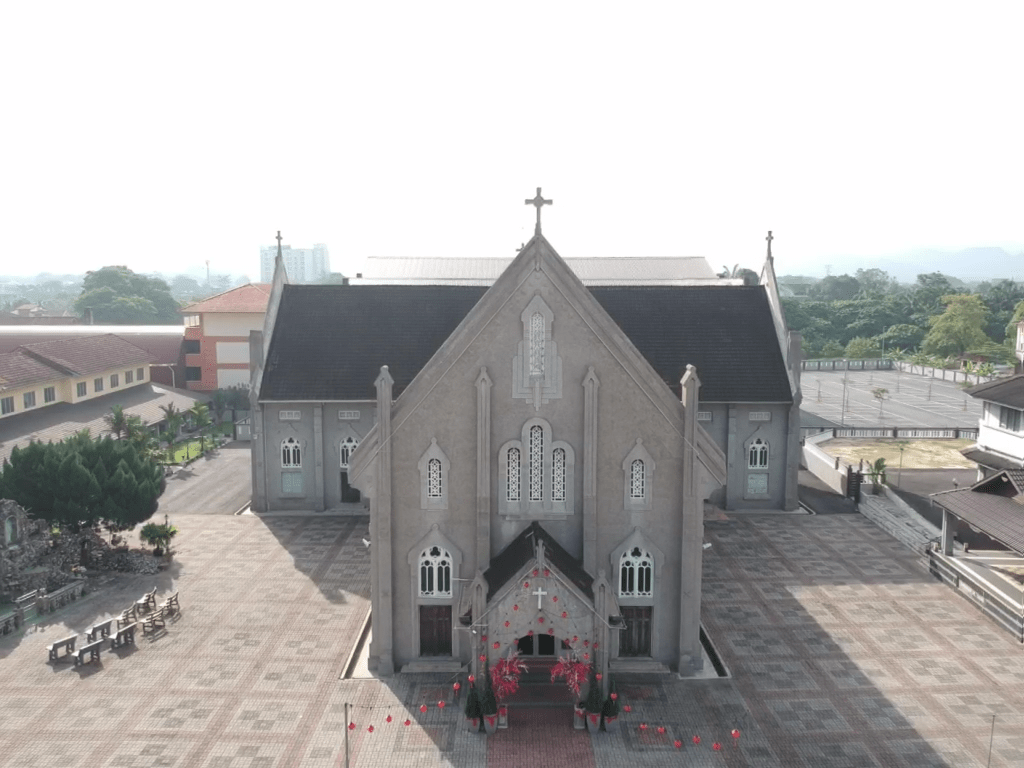Church: (260, 198, 806, 665)
